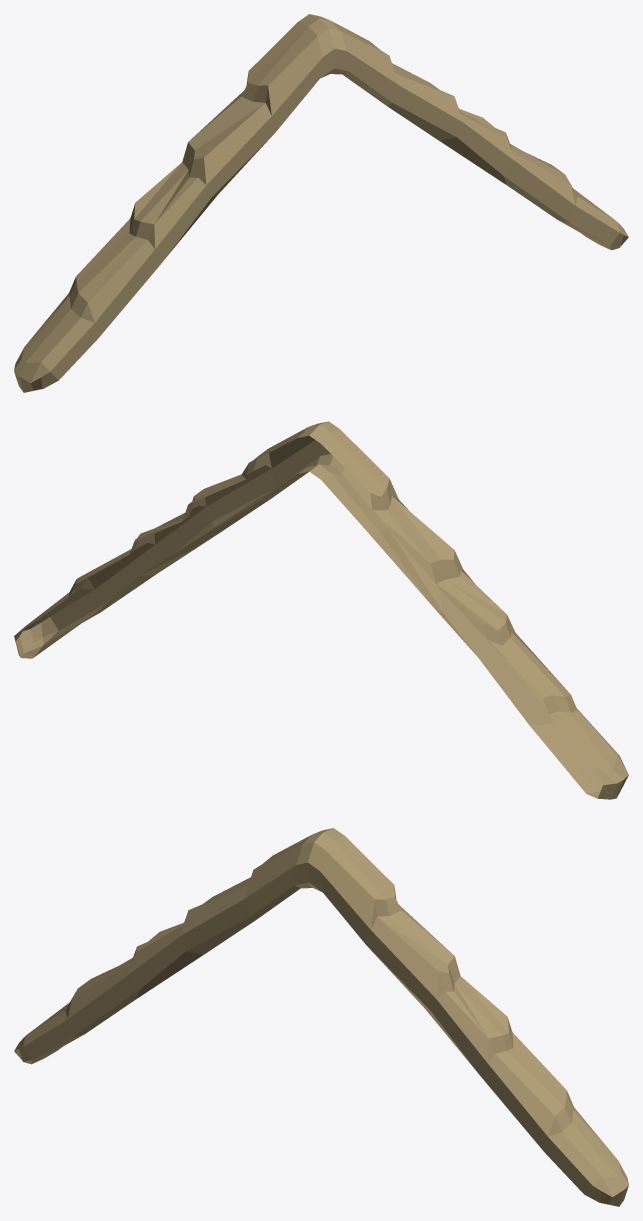
File: rpgpp_ag_roof_02_9x4x3_end_01.fbx
The picture shows the model from 3 angles, top to bottom: view 1: azimuth 30°, elevation 25°; view 2: azimuth 150°, elevation 25°; view 3: azimuth 330°, elevation 25°; orthographic projection.
Visible parts, largest first — view 1: rpgpp_ag_roof_02_9x4x3_end_01; view 2: rpgpp_ag_roof_02_9x4x3_end_01; view 3: rpgpp_ag_roof_02_9x4x3_end_01.
Boxes of the visible parts, x1=… form: rpgpp_ag_roof_02_9x4x3_end_01: x1=14, y1=14, x2=628, y2=392; rpgpp_ag_roof_02_9x4x3_end_01: x1=14, y1=421, x2=628, y2=799; rpgpp_ag_roof_02_9x4x3_end_01: x1=14, y1=828, x2=628, y2=1206.
Bounding box in the file's own units: 11.08 × 5.29 × 0.8302.
